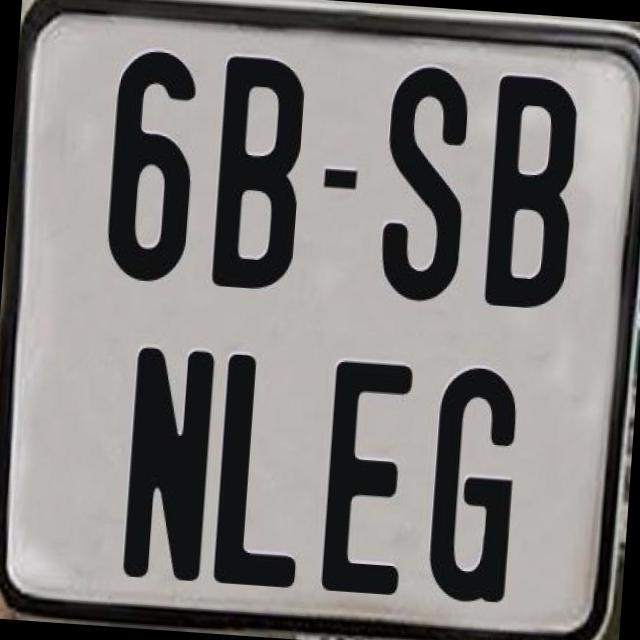6: (100, 48, 196, 290)
B: (210, 51, 310, 290), (482, 70, 580, 306)
E: (319, 354, 415, 594)
G: (424, 360, 518, 602)
L: (208, 353, 310, 597)
N: (118, 342, 217, 579)
S: (377, 64, 479, 304)
